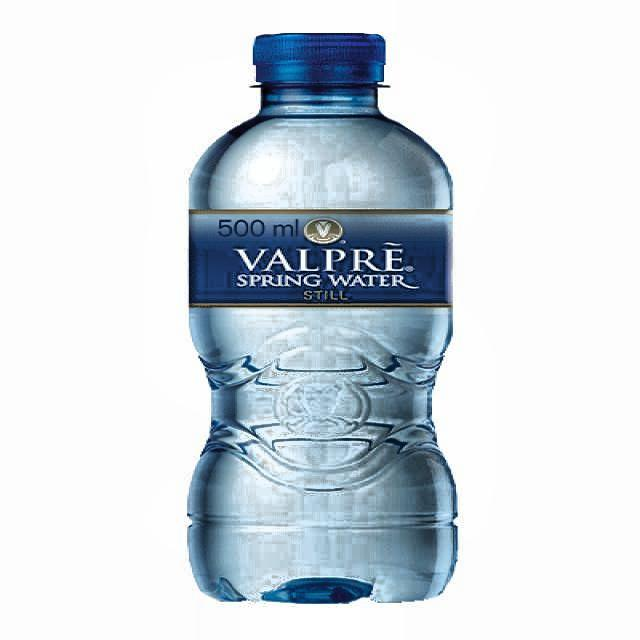plastic bottle: (189, 34, 458, 604)
